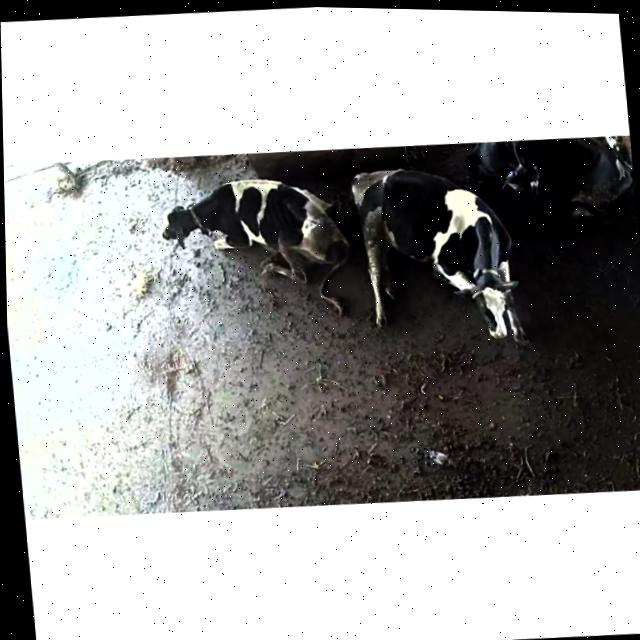lay: (346, 150, 536, 370), (145, 151, 356, 324), (463, 132, 636, 223)
